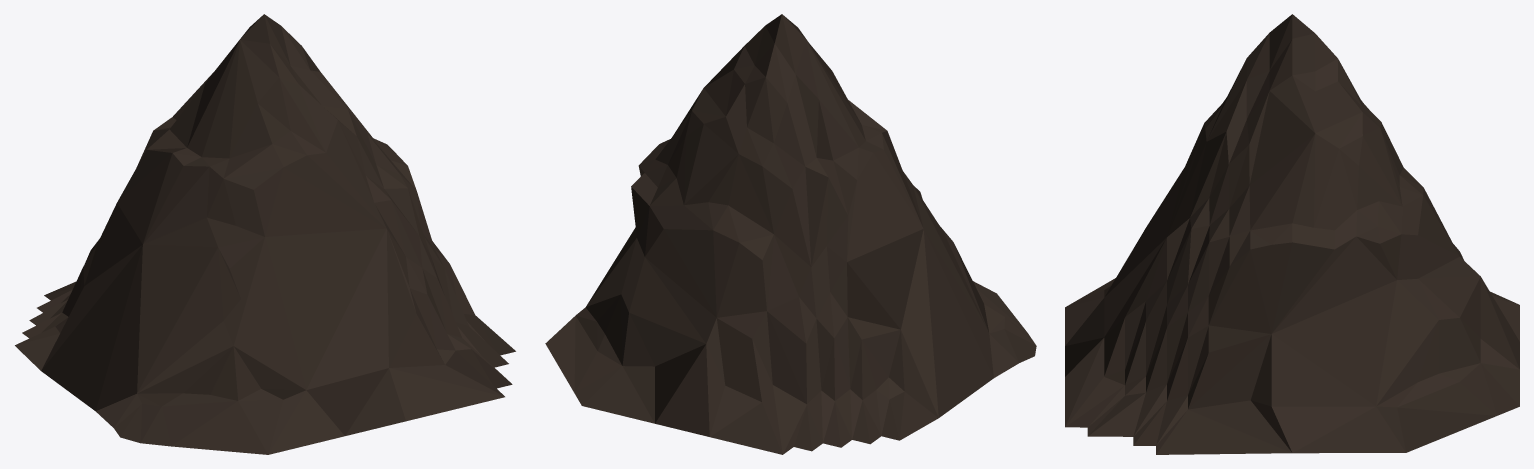
File: Mountain_4.fbx
3 views of the same model, side by side, from view 1: azimuth 30°, elevation 25°; view 2: azimuth 150°, elevation 25°; view 3: azimuth 270°, elevation 25° (orthographic). The views are drawn at different scales.
Parts seen in each view (by area): view 1: Mountain04; view 2: Mountain04; view 3: Mountain04.
Boxes of the visible parts, x1,y1,x2,y2 form: Mountain04: [15, 14, 515, 454]; Mountain04: [545, 14, 1036, 454]; Mountain04: [1065, 14, 1519, 454].
Size of the model in its own units: 8627 by 7166 by 8518.
1 material, 1 textured.
